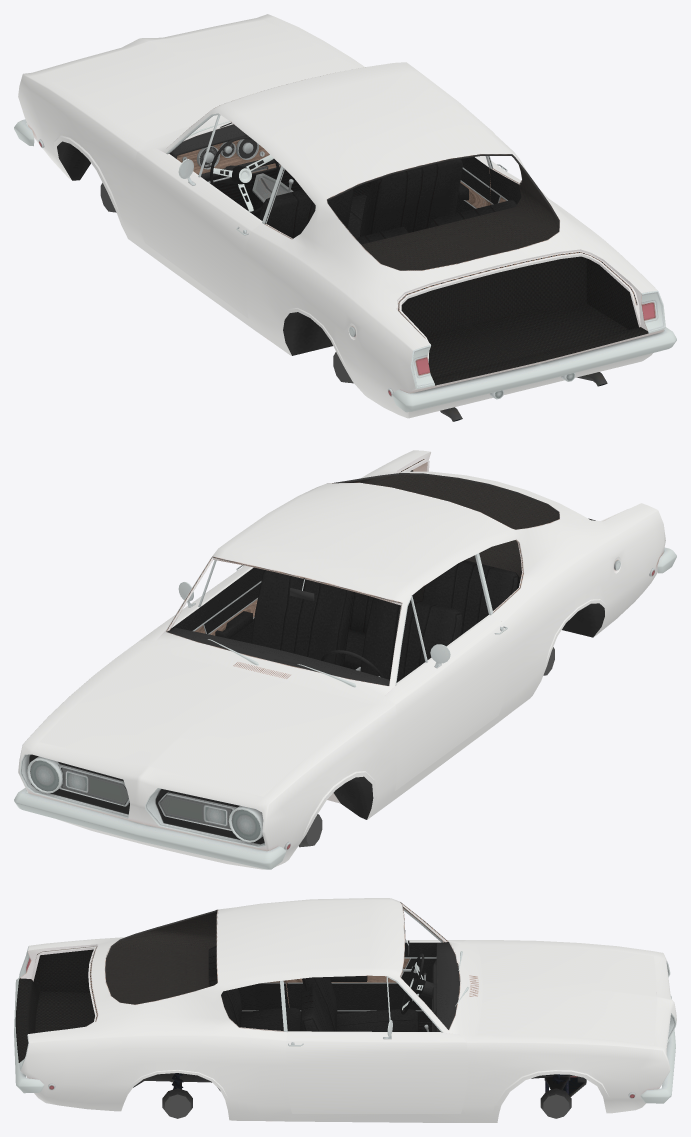
Rendered from car_base_white.glb.
The picture shows the model from 3 angles, top to bottom: view 1: azimuth 30°, elevation 25°; view 2: azimuth 150°, elevation 25°; view 3: azimuth 270°, elevation 25°; orthographic projection. The views are drawn at different scales.
Visible parts, largest first — view 1: steer_car_0; view 2: steer_car_0; view 3: steer_car_0.
Boxes of the visible parts, x1,y1,x2,y2 form: steer_car_0: (14, 14, 676, 421); steer_car_0: (14, 450, 676, 869); steer_car_0: (14, 898, 676, 1122).
Size of the model in its own units: 1.62 by 1.07 by 4.2.
1 material, 1 textured.
